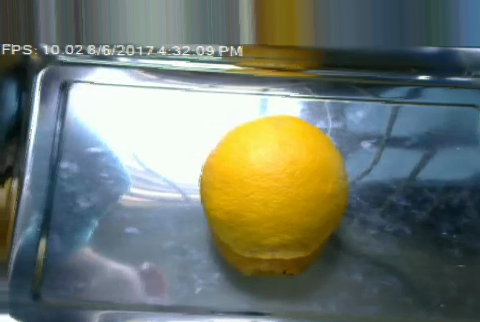Orange: (199, 115, 349, 260)
